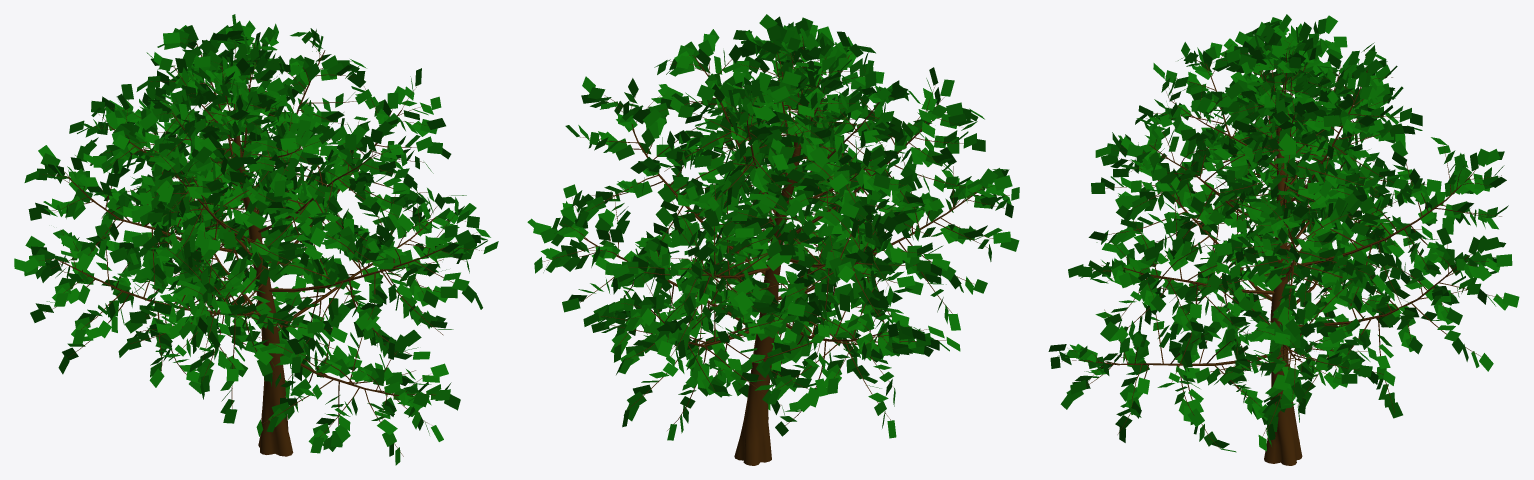
Rendered from tree1.FBX.
3 views of the same model, side by side, from view 1: azimuth 30°, elevation 25°; view 2: azimuth 150°, elevation 25°; view 3: azimuth 270°, elevation 25° (orthographic). The views are drawn at different scales.
Visible parts, largest first — view 1: Foliage01; view 2: Foliage01; view 3: Foliage01.
Part boxes in pixels (x1,y1,x2,y2): Foliage01: (14, 14, 498, 465); Foliage01: (527, 14, 1019, 465); Foliage01: (1048, 14, 1519, 465).
Size of the model in its own units: 47.91 by 47.5 by 48.14.
